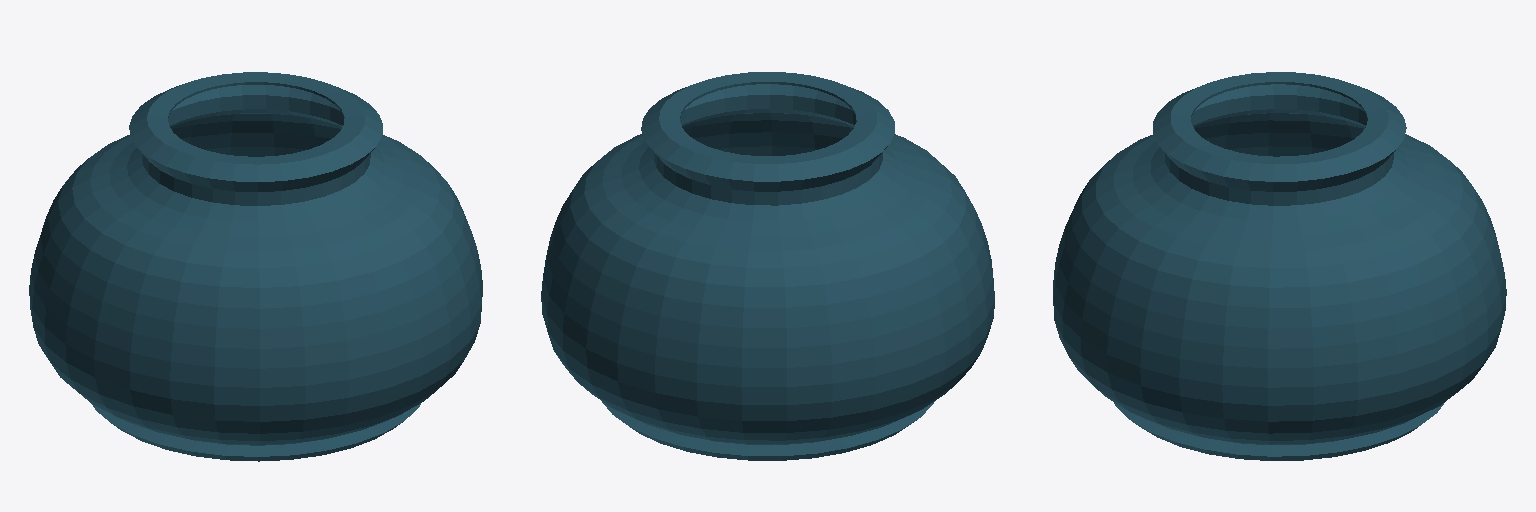
File: FishbowlUV.obj
The picture shows the model from 3 angles: view 1: azimuth 30°, elevation 25°; view 2: azimuth 150°, elevation 25°; view 3: azimuth 270°, elevation 25°; orthographic projection.
Parts seen in each view (by area): view 1: revolvedSurface1; view 2: revolvedSurface1; view 3: revolvedSurface1.
Part boxes in pixels (left/top/right/bottom): revolvedSurface1: left=29, top=72, right=482, bottom=461; revolvedSurface1: left=541, top=72, right=994, bottom=460; revolvedSurface1: left=1053, top=72, right=1506, bottom=460.
Size of the model in its own units: 42.52 by 28.48 by 42.47.